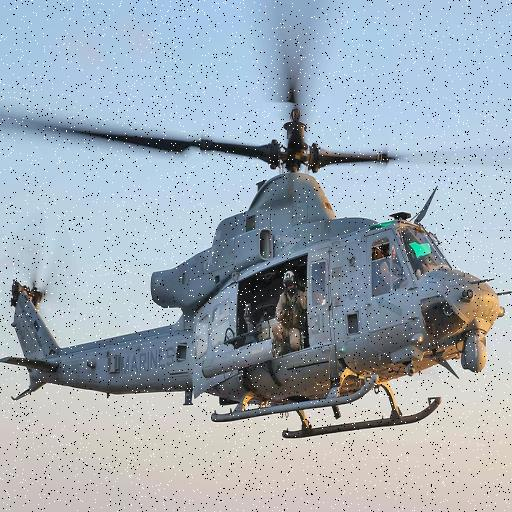helicopter: (1, 27, 507, 447)
